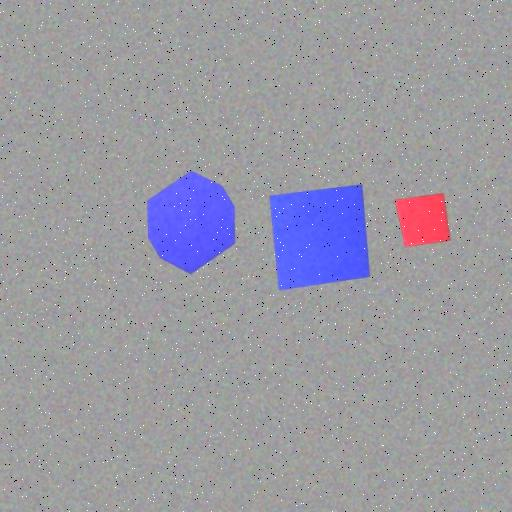BLUE_SQUARE: (269, 184, 371, 291)
RED_SQUARE: (394, 193, 451, 247)
